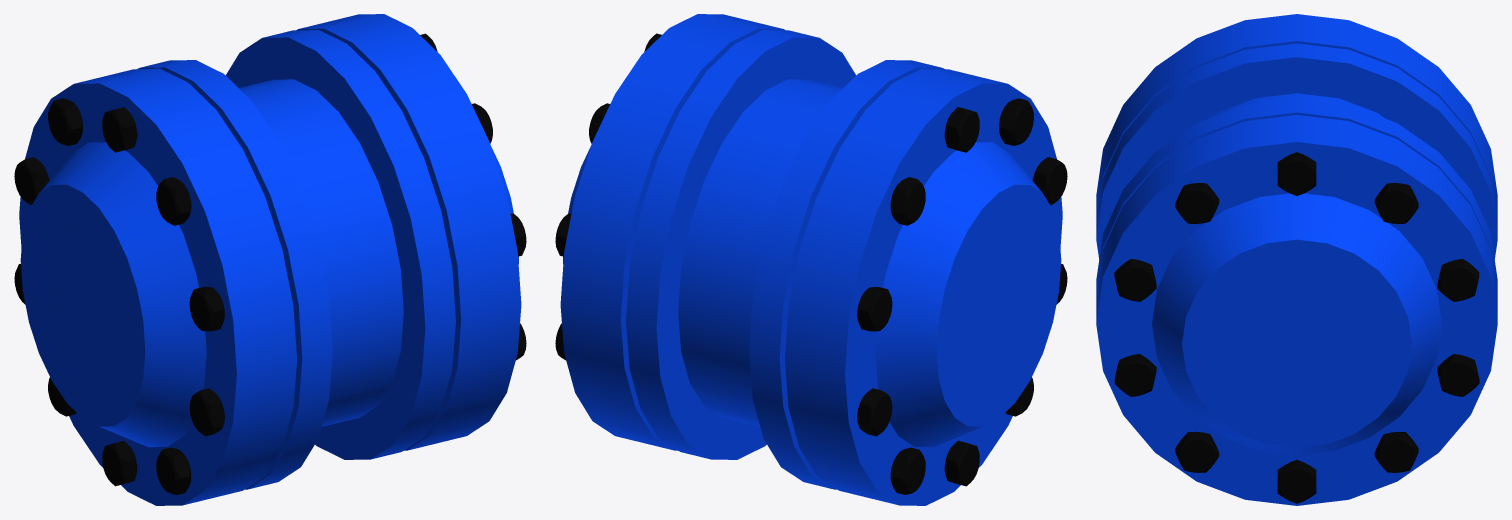
Rendered from Check Valve.fbx.
3 views of the same model, side by side, from view 1: azimuth 30°, elevation 25°; view 2: azimuth 150°, elevation 25°; view 3: azimuth 270°, elevation 25° (orthographic). The views are drawn at different scales.
Parts seen in each view (by area): view 1: Check Valve; view 2: Check Valve; view 3: Check Valve.
Boxes of the visible parts, x1=… form: Check Valve: x1=14, y1=14, x2=526, y2=505; Check Valve: x1=555, y1=14, x2=1067, y2=505; Check Valve: x1=1096, y1=14, x2=1497, y2=505.
Bounding box in the file's own units: 37.87 × 38.22 × 38.22.
